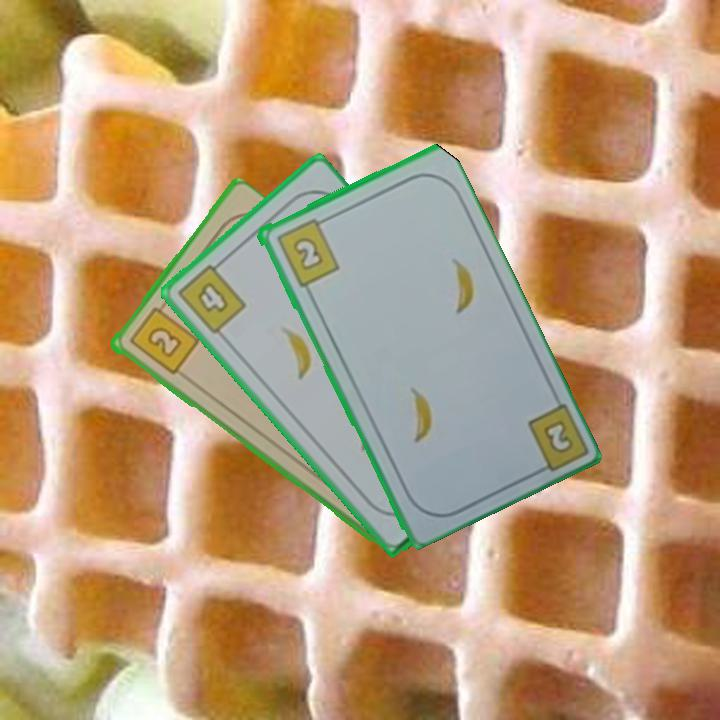2b: (125, 297, 201, 378), (272, 214, 342, 290), (523, 398, 588, 479)
4b: (173, 255, 249, 337)
